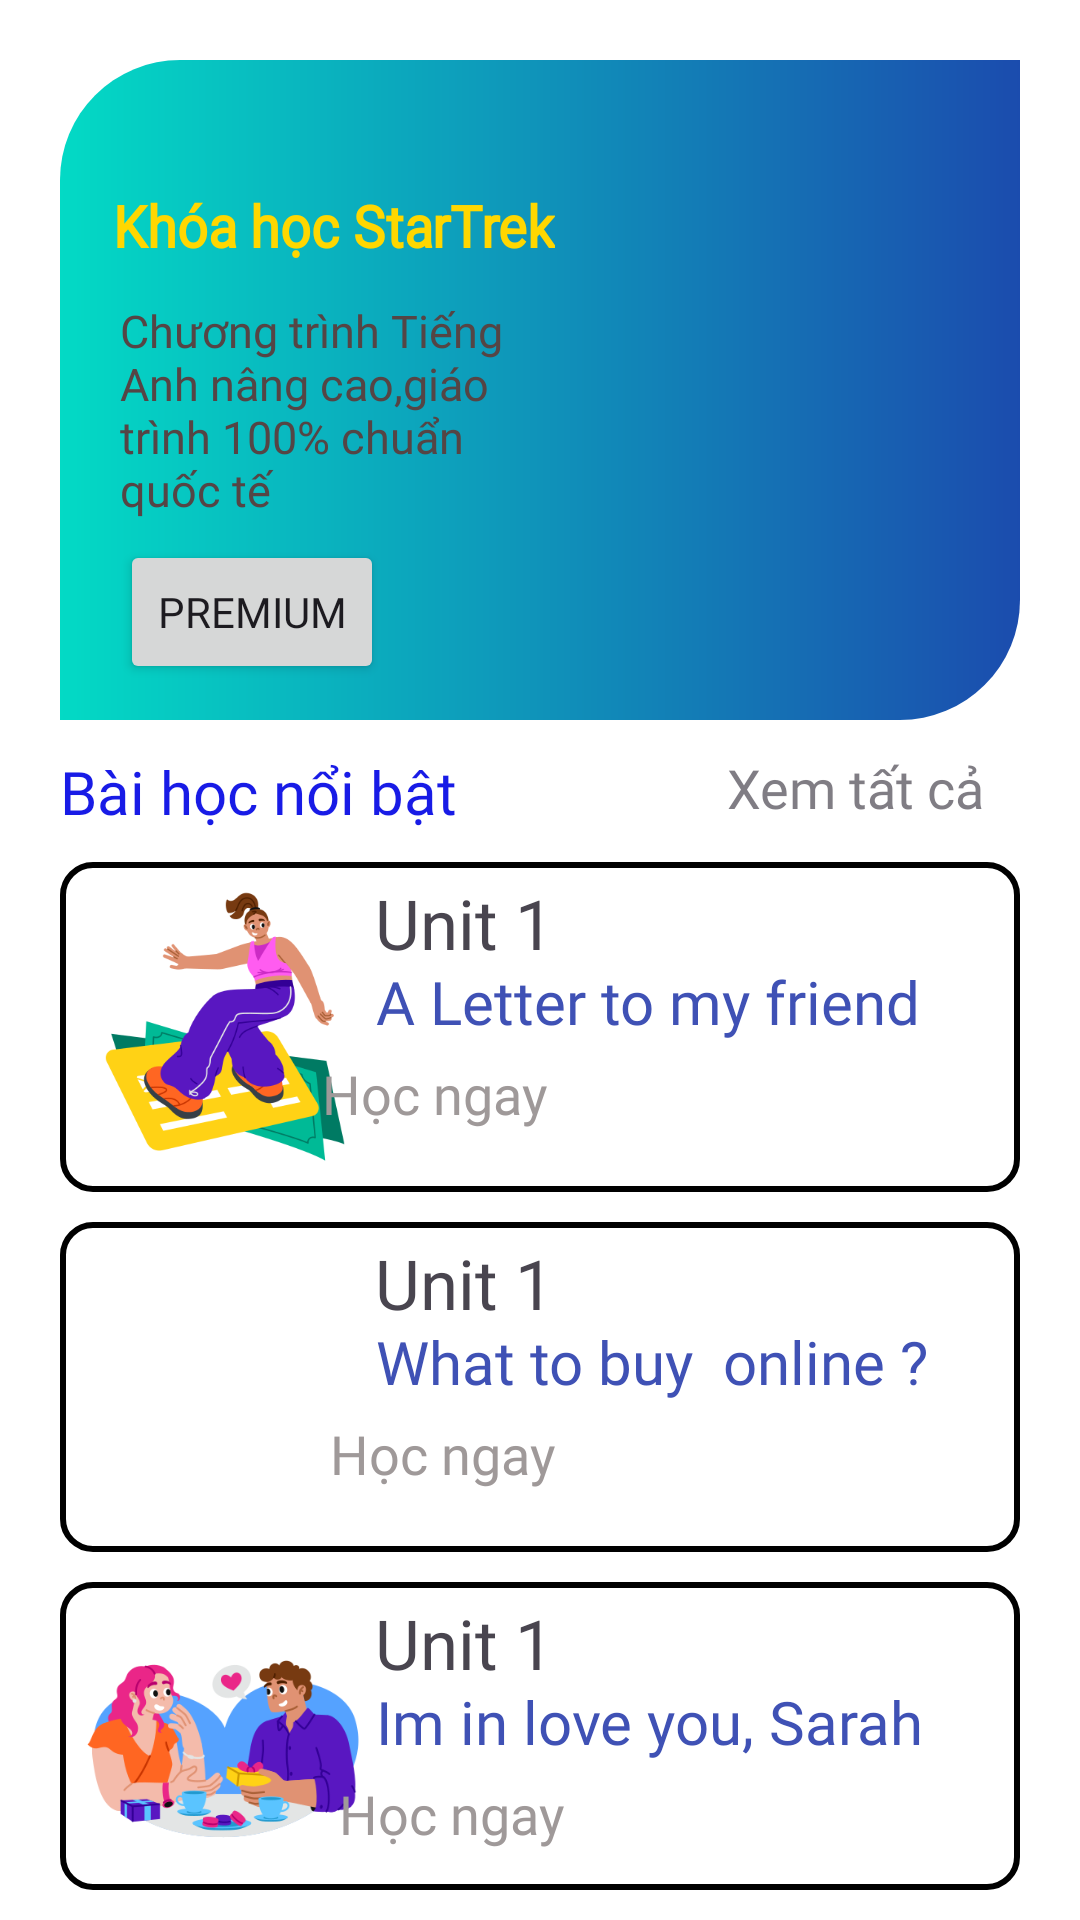

Where icons sit on this 1080×1920 app screen, as (x1, y1, x2, y2):
homefrag inlovesarah: (87, 1660, 373, 1837)
women homefrag: (105, 892, 375, 1161)
